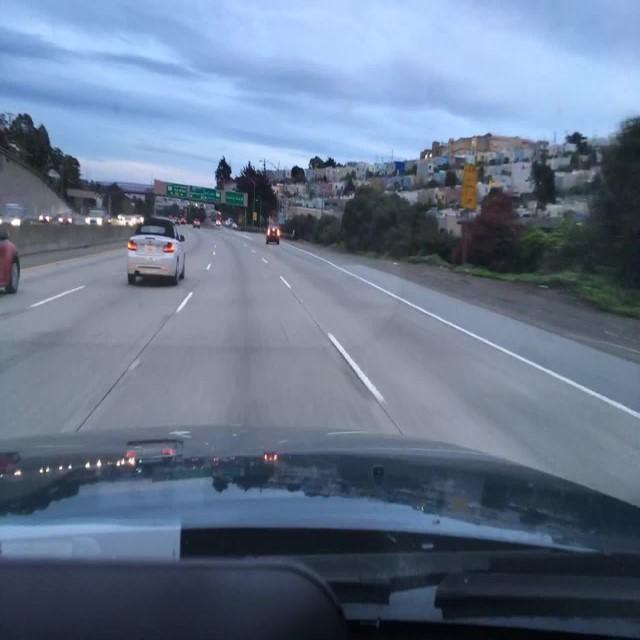normal: (101, 208, 207, 290)
